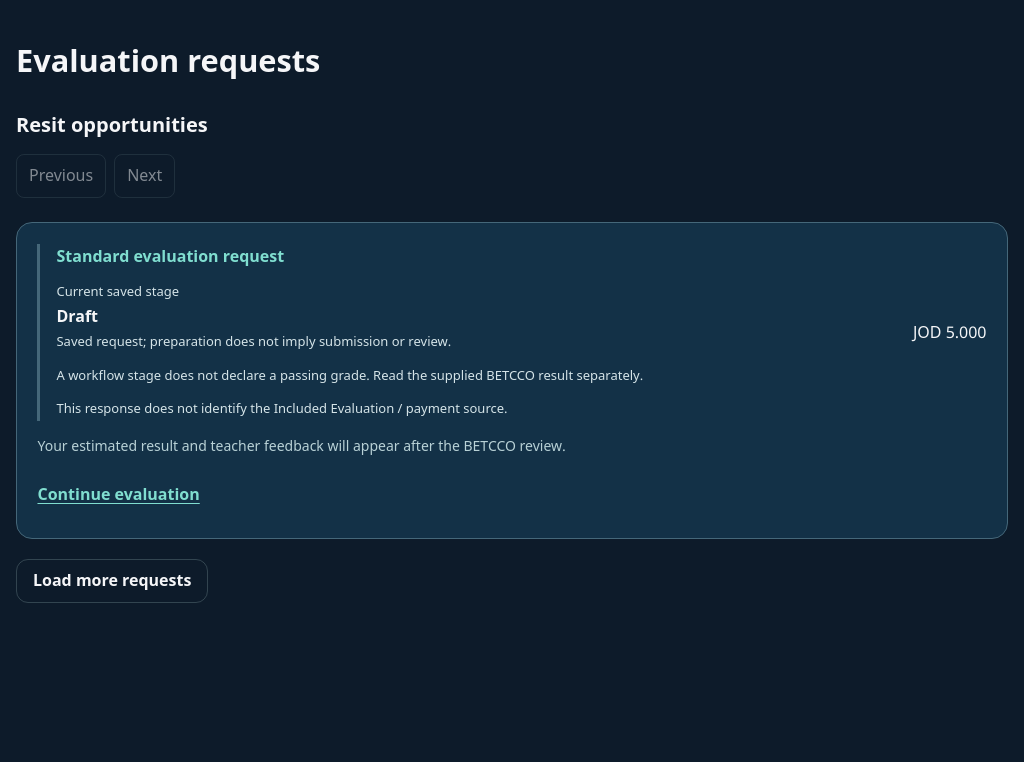
it: student evaluation pagination › loads older evaluation cards only when requested
This screenshot has width=1024, height=762.
Click the button "Load more requests" at (112, 581), box x1=16 y1=559 x2=208 y2=603
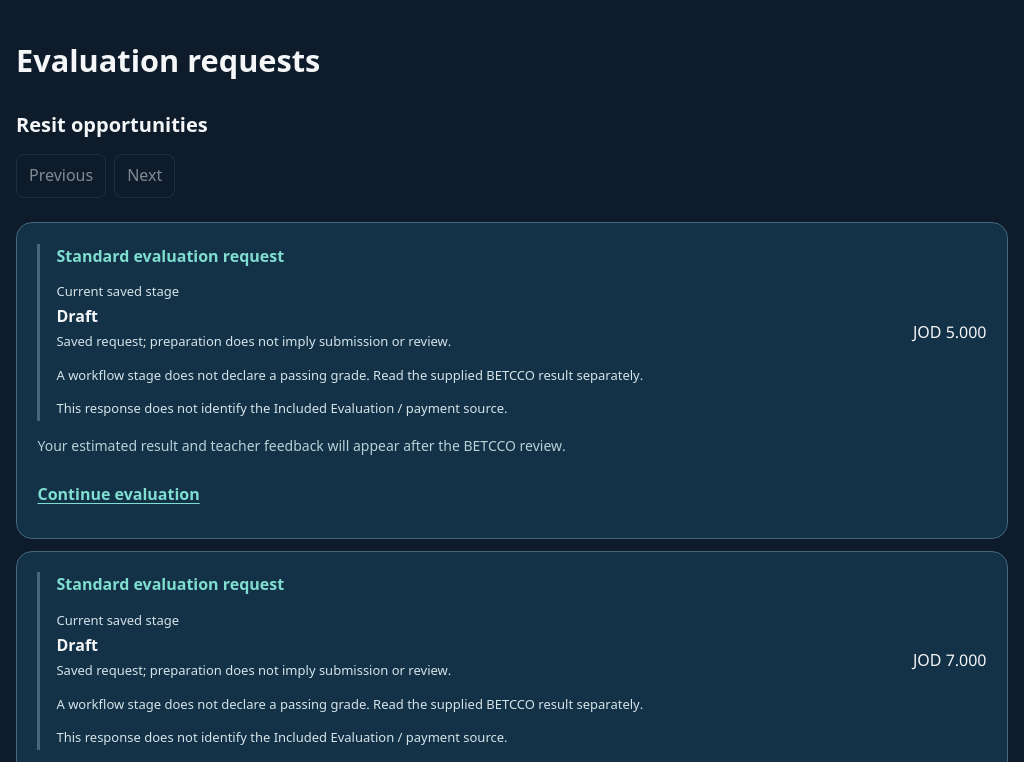
Expected: the button "Load more requests" is gone
